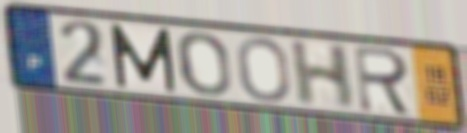2: (57, 19, 109, 87)
H: (287, 39, 357, 112)
M: (107, 21, 180, 95)
O: (174, 29, 234, 98), (234, 34, 293, 104)
R: (351, 43, 416, 119)
